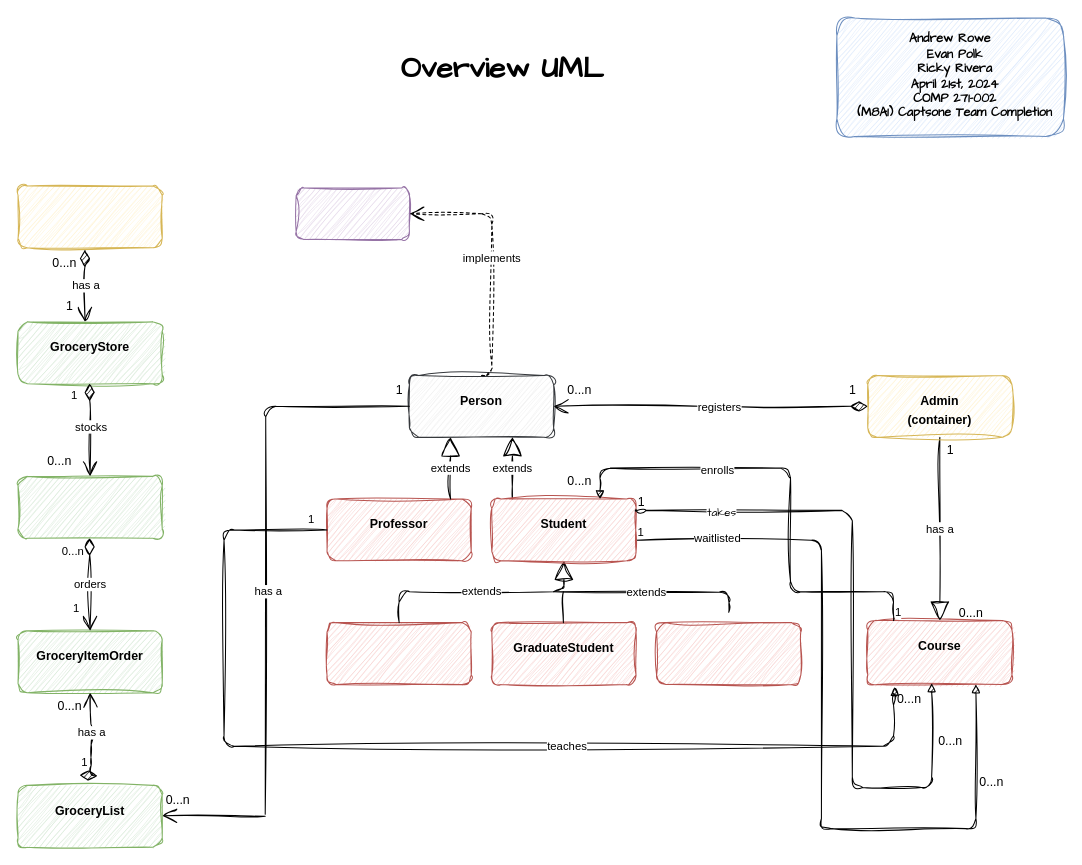
Some shapes in this 1082 by 865 pixel diagram are drawn without their labels. The shapes that lost their labels are listed below. From the top down, each one's box as (x1, y1, x2, y2) in pixels, then its label:
(17, 185, 162, 248): GroceryStoreContainer (container)
(295, 187, 409, 239): «interface» Shopper
(17, 475, 162, 538): GroceryItem
(326, 622, 471, 684): UnderGradStudent
(656, 622, 801, 684): AtLarge
